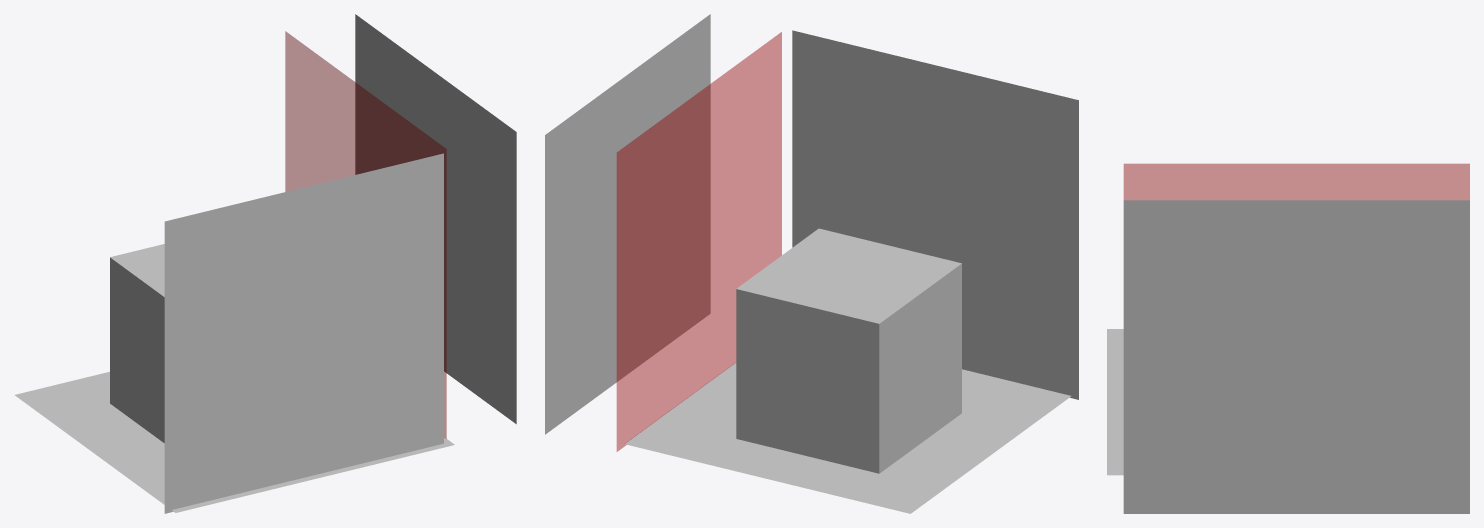
File: custom.obj
The picture shows the model from 3 angles, left to right: view 1: azimuth 30°, elevation 25°; view 2: azimuth 150°, elevation 25°; view 3: azimuth 270°, elevation 25°; orthographic projection. The views are drawn at different scales.
Parts seen in each view (by area): view 1: Plane.002, Plane.003, Plane.001, custom, Plane; view 2: Plane.002, Plane.003, Plane.001, custom, Plane; view 3: Plane.003, Plane.001, Plane.
Boxes of the visible parts, bbox=[...] form: Plane.002: bbox=[164, 153, 443, 513]; Plane.003: bbox=[355, 14, 516, 424]; Plane.001: bbox=[285, 31, 446, 438]; custom: bbox=[110, 244, 164, 443]; Plane: bbox=[15, 371, 454, 512]; Plane.002: bbox=[792, 30, 1078, 399]; Plane.003: bbox=[545, 14, 710, 434]; Plane.001: bbox=[617, 32, 781, 451]; custom: bbox=[736, 228, 961, 473]; Plane: bbox=[624, 362, 1071, 513]; Plane.003: bbox=[1123, 200, 1469, 513]; Plane.001: bbox=[1124, 164, 1469, 199]; Plane: bbox=[1107, 329, 1123, 475].
Size of the model in its own units: 2.55 by 2 by 2.1.
